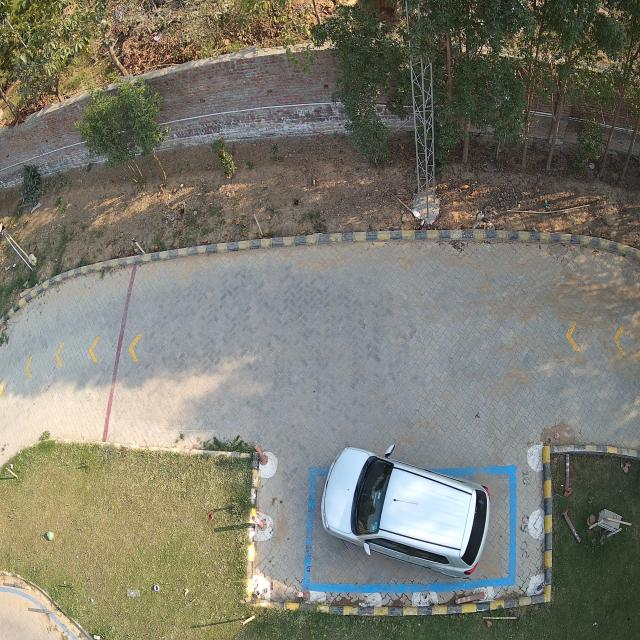car: (321, 447, 490, 577)
